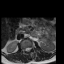CCS_normal: (27, 45, 29, 54)
LFS_normal: (31, 44, 33, 50)
LLS_normal: (29, 45, 31, 52)
RFS_normal: (23, 46, 25, 53)
RLS_normal: (25, 46, 27, 52)
